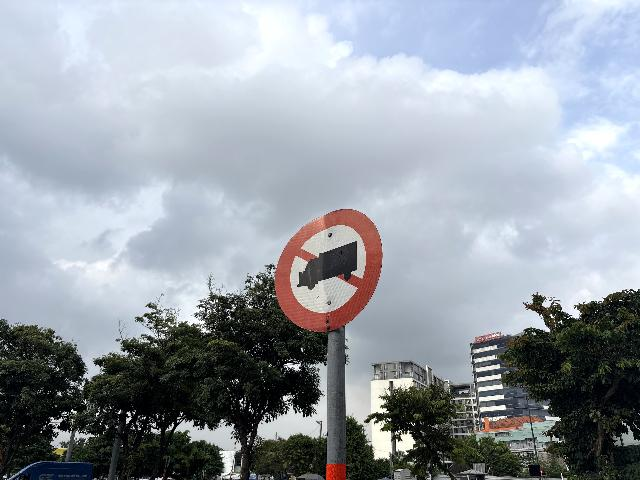cam-xe-tai: (275, 209, 383, 333)
